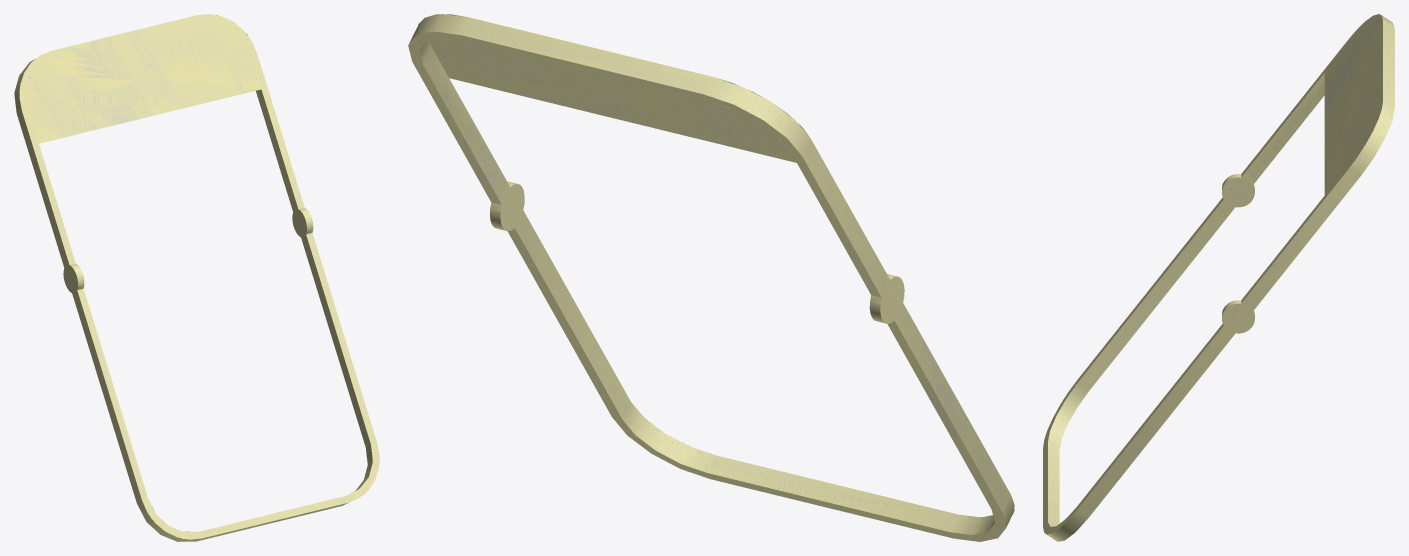
Rendered from original-1.obj.
3 views of the same model, side by side, from view 1: azimuth 30°, elevation 25°; view 2: azimuth 150°, elevation 25°; view 3: azimuth 270°, elevation 25° (orthographic). The views are drawn at different scales.
Parts seen in each view (by area): view 1: mesh1/mesh1-geometry#mesh1-geometry; view 2: mesh1/mesh1-geometry#mesh1-geometry; view 3: mesh1/mesh1-geometry#mesh1-geometry.
Boxes of the visible parts, x1,y1,x2,y2 form: mesh1/mesh1-geometry#mesh1-geometry: (14,14,379,541); mesh1/mesh1-geometry#mesh1-geometry: (408,14,1014,541); mesh1/mesh1-geometry#mesh1-geometry: (1043,14,1394,541).
Size of the model in its own units: 0.9036 by 1.41 by 1.04.
